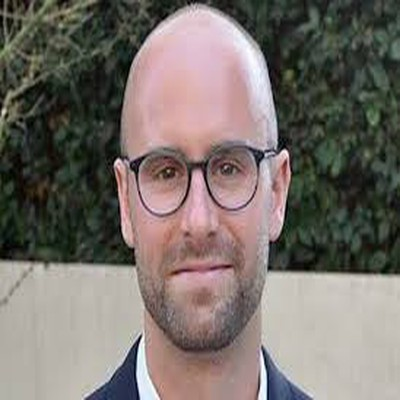eywear: (126, 108, 306, 215)
